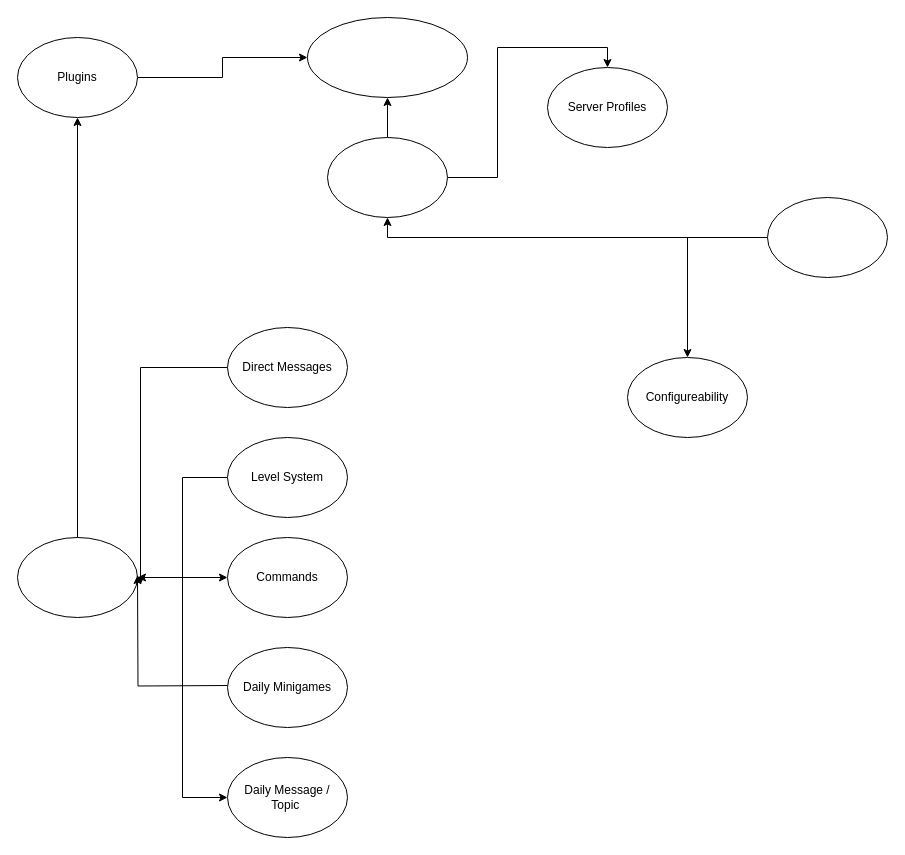
This 905x855 diagram has some shape labels left out. The shapes that lost their labels are listed below. From the top down, each one's box as (x1, y1, x2, y2) in pixels, then its label:
(306, 16, 468, 98): MOON BOT
(326, 136, 448, 218): Core
(766, 196, 888, 278): Startup
(16, 536, 138, 618): User Interaction
